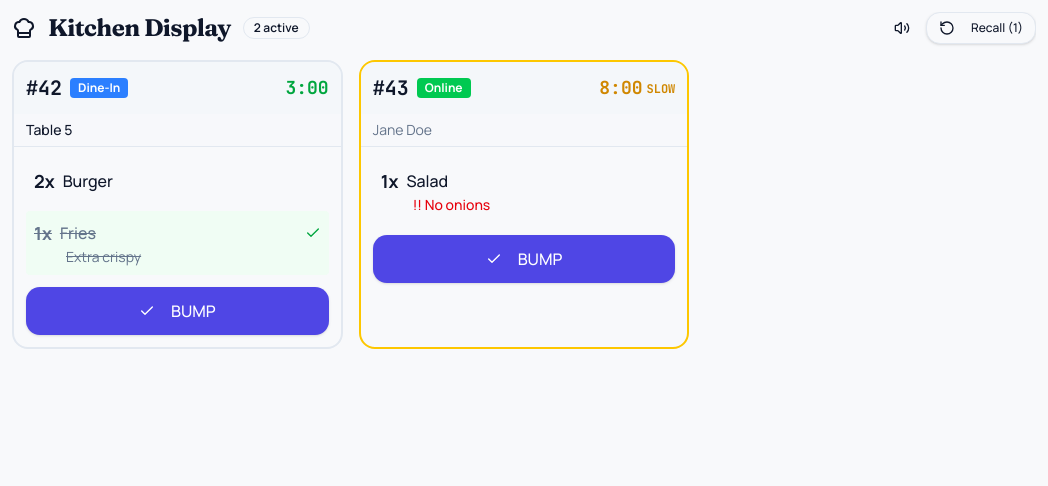
Test case: KDSPage › toggles recall queue visibility when Recall button is clicked
Expected: the text "Recently Bumped (tap to recall)" is not shown
Click the button "Recall (1)" at (981,28), box [926,12,1036,44]
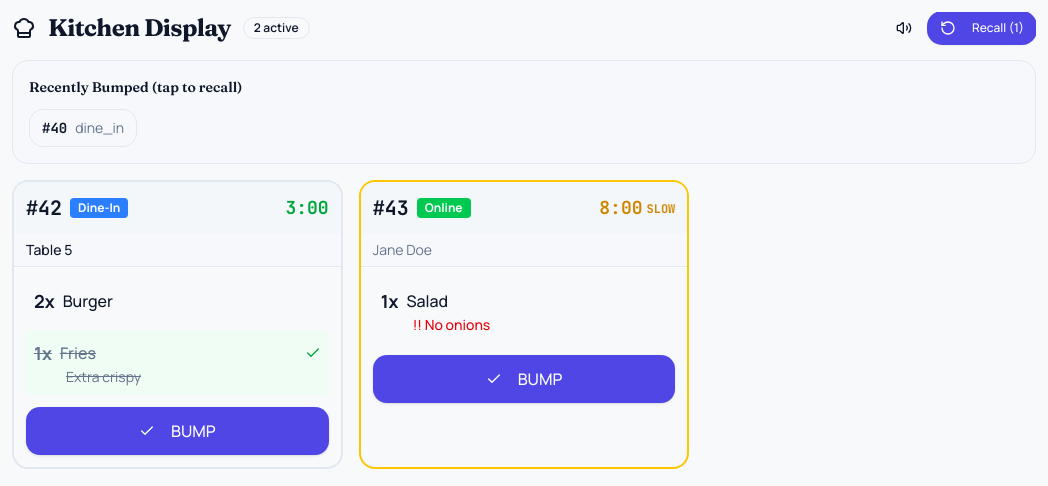
Expected: the heading "Recently Bumped (tap to recall)" is shown, [29,78,242,96]
